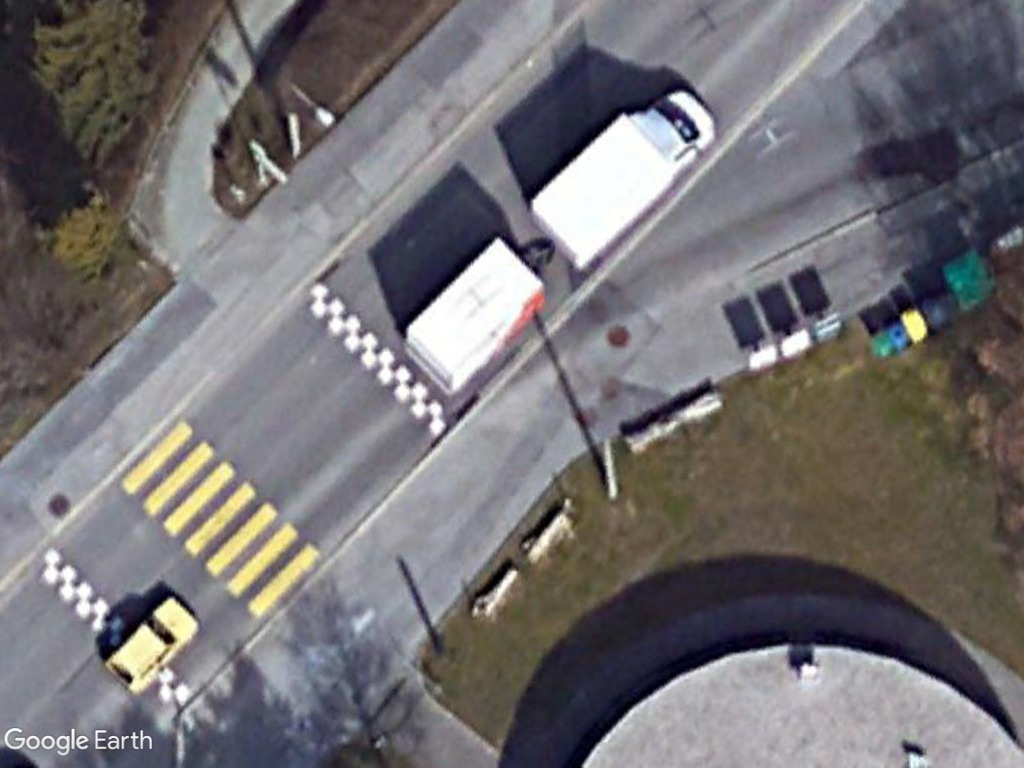car: (103, 599, 201, 702)
truck: (528, 86, 727, 269)
